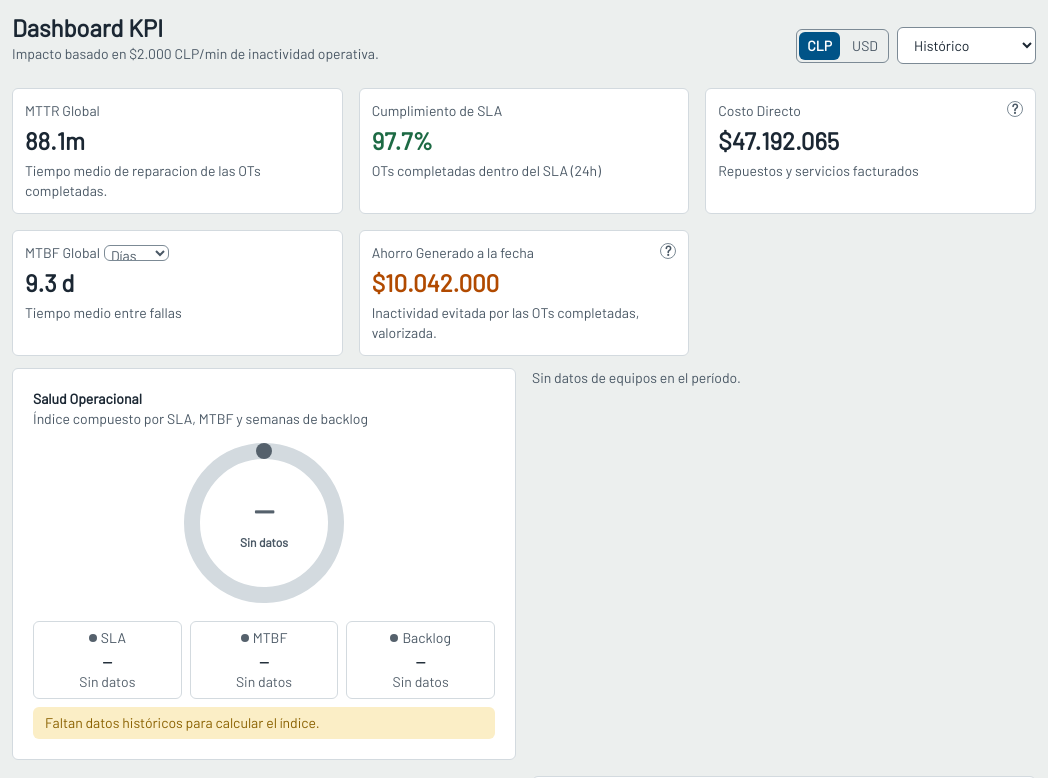
Scenario: DashboardComponent — feedback de Samuel › toggle de moneda (CGBIDA-432) › en USD muestra la tasa aplicada, para que la conversión sea auditable
The width and height of the screenshot is (1048, 778).
Click the button with test id "moneda-USD".
click(865, 46)  # box [844, 32, 886, 60]
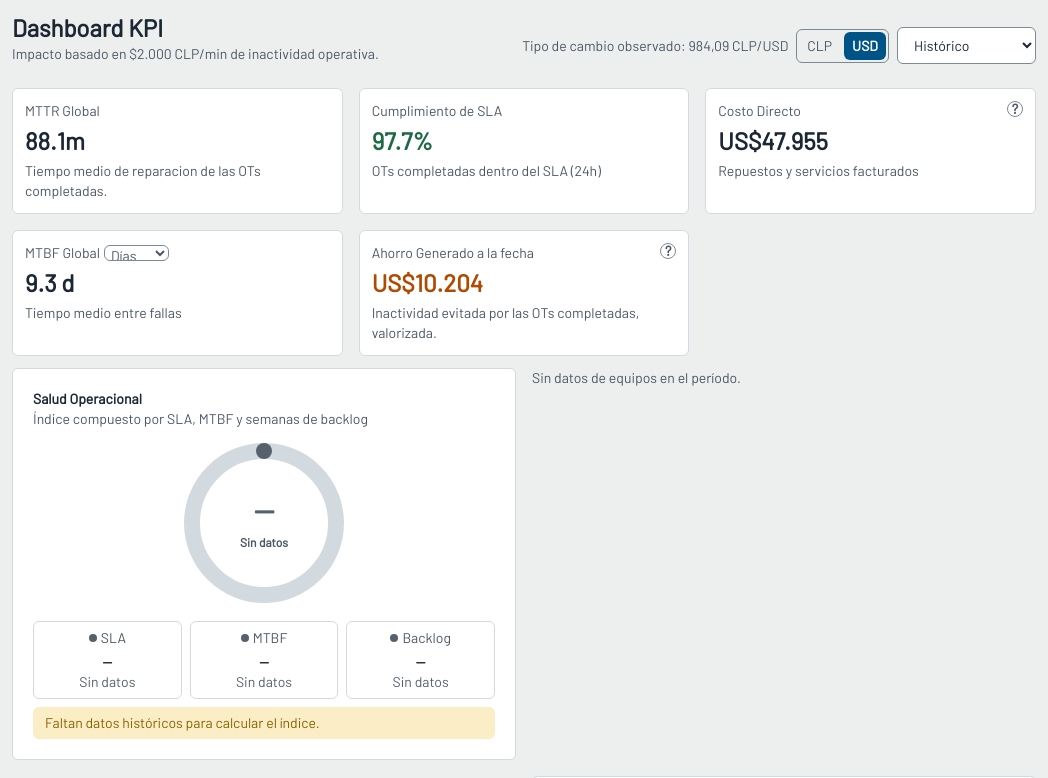
Now the text "Tipo de cambio observado: 984,09 CLP/USD" is shown, box [522, 36, 788, 56]
Now the text with test id "moneda-tasa" shows "984,09", box [522, 36, 788, 54]
